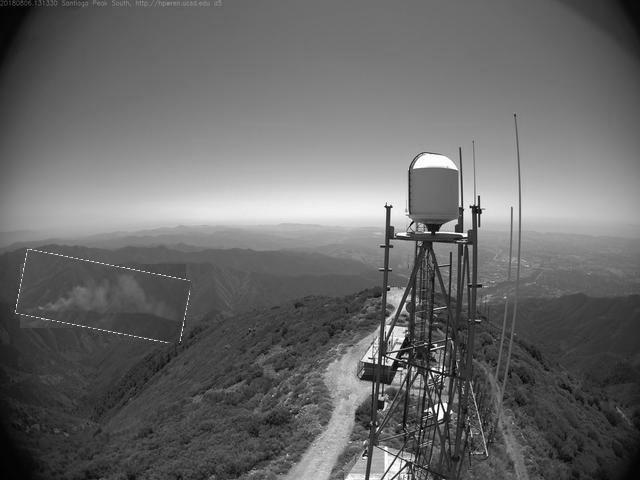smoke: (19, 258, 190, 338)
